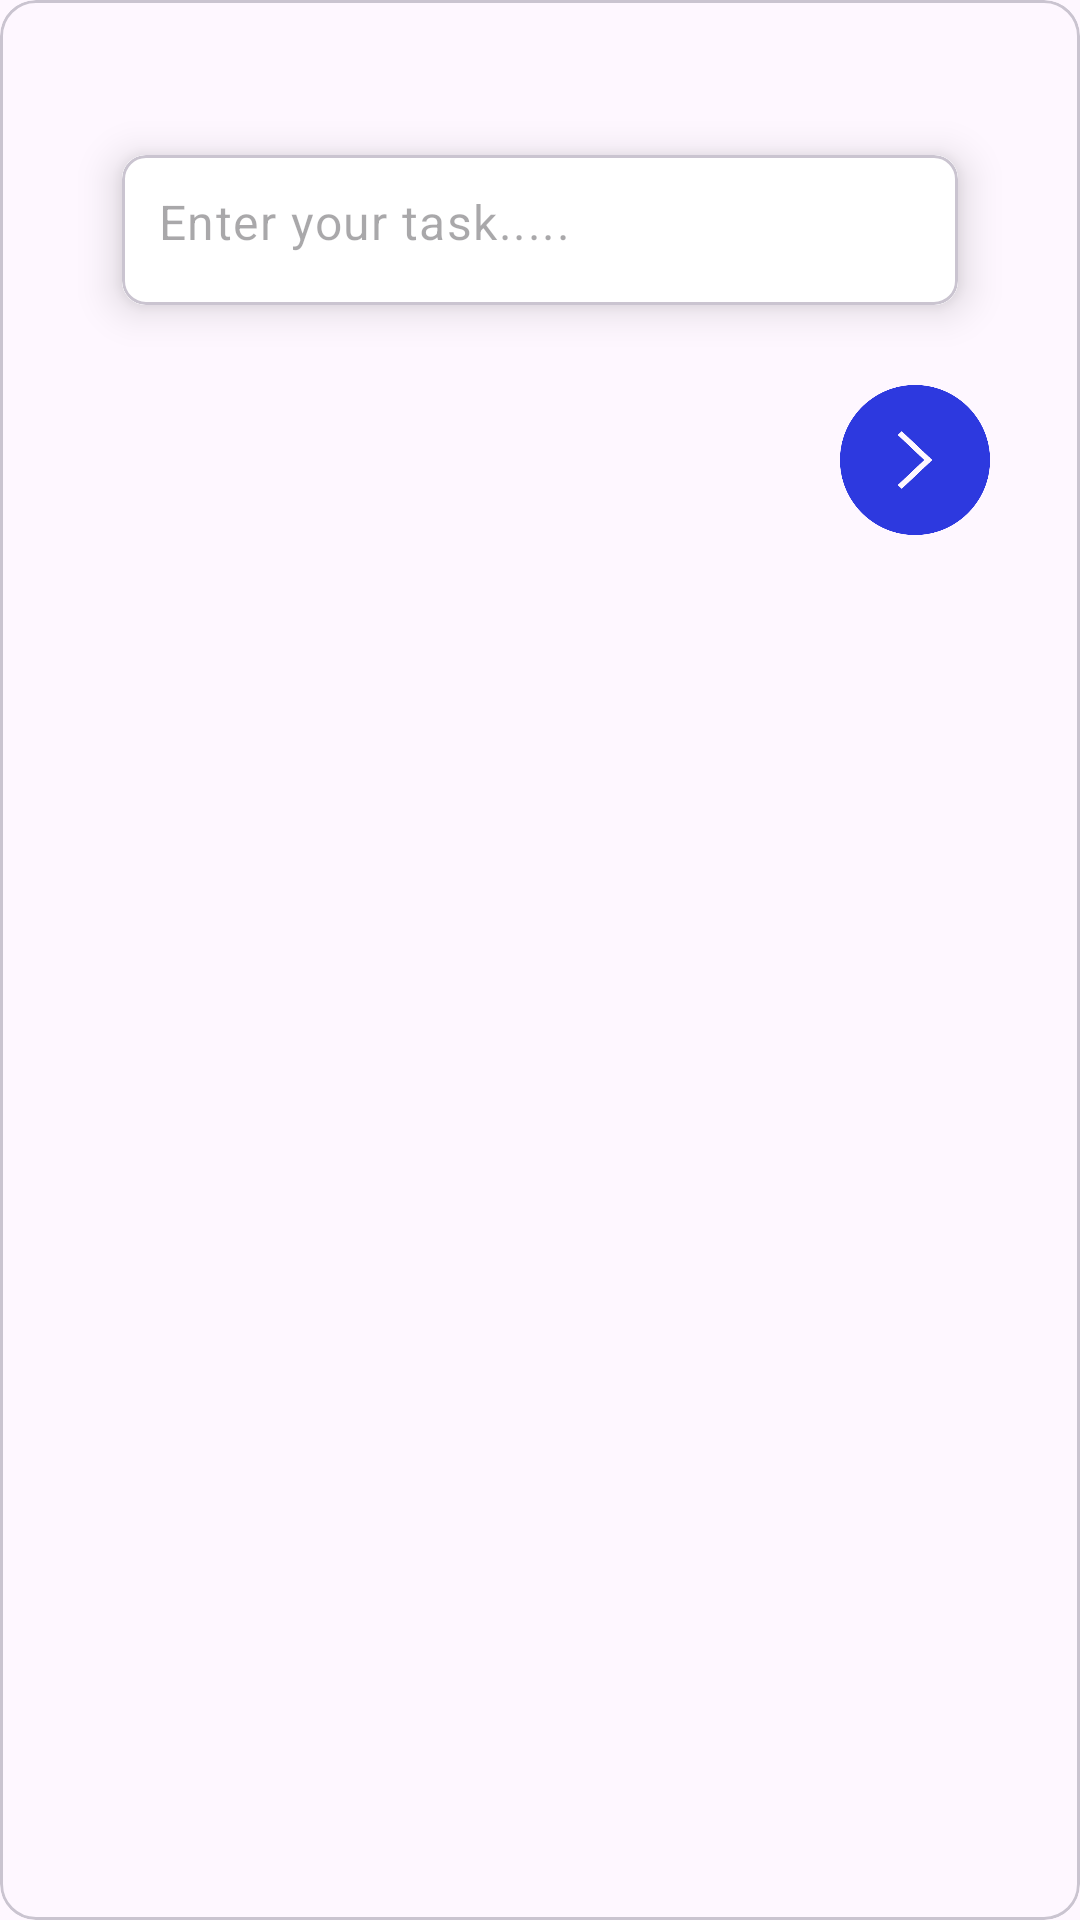

Where icons sit on this 1080px x 1920px app screen, as detection(x1, y1, x2, y2):
add arrow: detection(840, 385, 990, 535)
